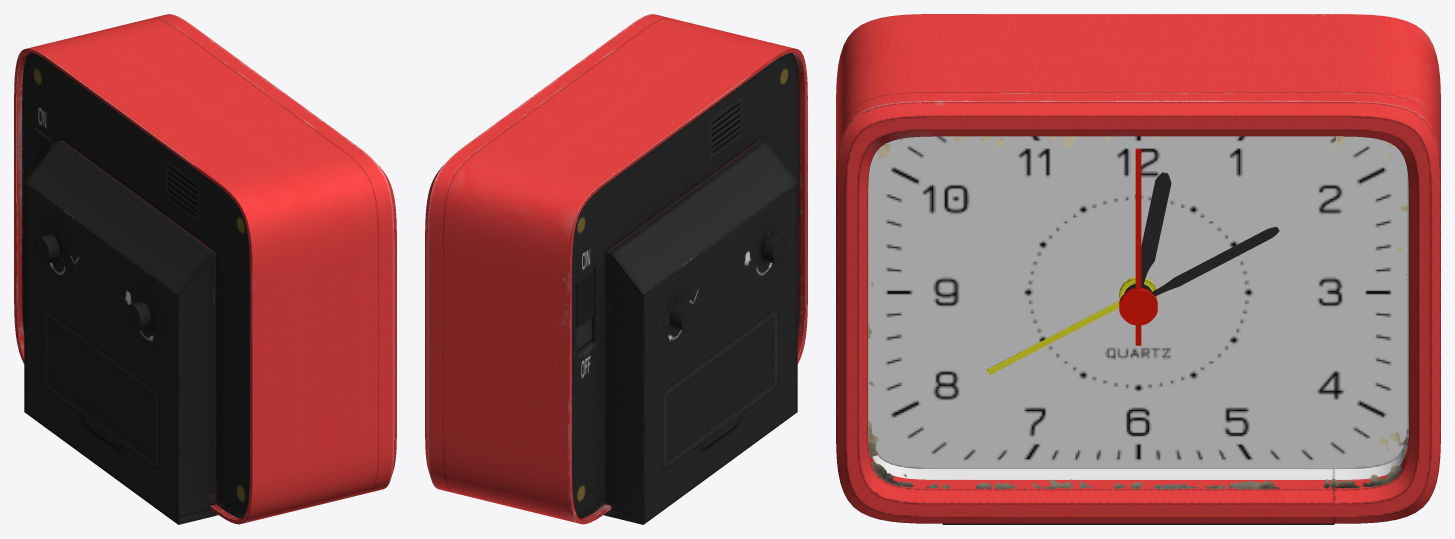
File: QuartzClock_OBJ.obj
3 renders of one model, left to right at view 1: azimuth 30°, elevation 25°; view 2: azimuth 150°, elevation 25°; view 3: azimuth 270°, elevation 25°, orthographic. The views are drawn at different scales.
Parts seen in each view (by area): view 1: Case_Cube.008; view 2: Case_Cube.008; view 3: Case_Cube.008, Glass_Cube.001, SeecondArm_Cylinder.006, HourArm_Cylinder.003, MinuteArm_Cylinder.005, AlarmArm_Cylinder.002.
Boxes of the visible parts, left/top/right/bottom form: Case_Cube.008: left=14, top=14, right=396, bottom=524; Case_Cube.008: left=425, top=14, right=807, bottom=524; Case_Cube.008: left=836, top=14, right=1440, bottom=524; Glass_Cube.001: left=868, top=136, right=1408, bottom=489; SeecondArm_Cylinder.006: left=1119, top=148, right=1157, bottom=345; HourArm_Cylinder.003: left=1124, top=172, right=1171, bottom=293; MinuteArm_Cylinder.005: left=1151, top=227, right=1279, bottom=296; AlarmArm_Cylinder.002: left=987, top=277, right=1156, bottom=374.
Size of the model in its own units: 0.0595 by 0.0974 by 0.1235.
